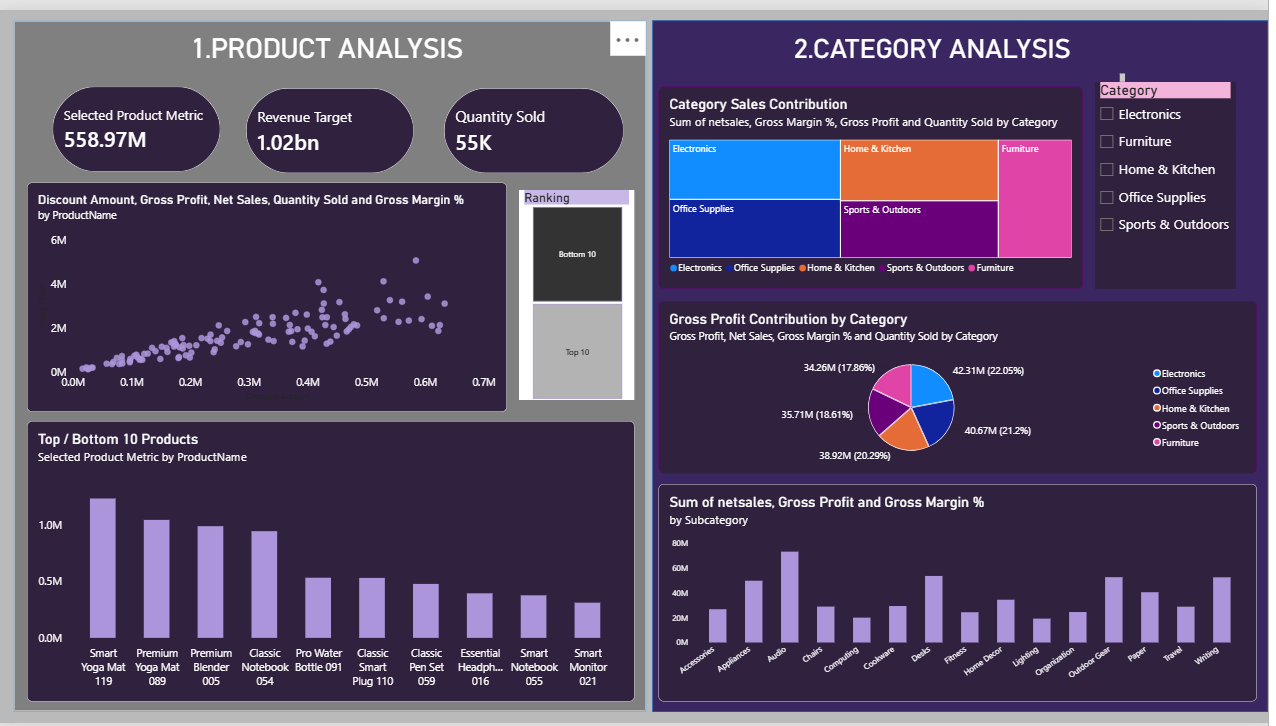

The dashboard page shown, as its layout file describes it:
{"tool":"powerbi","page":{"name":"Product & Category Analysis","canvas":[1920,1080],"ordinal":3},"visuals":[{"type":"shape","box":[20.4,15.9,958.5,1047.1],"z":0},{"type":"shape","box":[988,16,932,1047],"z":1000},{"type":"treemap","title":"Category Sales Contribution","fields":{"Group":["Products.Category"],"Values":["Sum(Order_items.netsales)"]},"box":[997.1,115.8,642.8,306.6],"z":4000},{"type":"slicer","fields":{"Values":["Products.Category"]},"box":[1658.1,109,213.5,313.4],"z":5000},{"type":"clusteredColumnChart","fields":{"Category":["Products.Category","Products.Subcategory"],"Y":["Sum(Order_items.netsales)"]},"box":[997.1,717.7,906.3,329.3],"z":6001},{"type":"clusteredColumnChart","title":"Top / Bottom 10 Products","fields":{"Category":["Products.ProductName"],"Y":["Order_items.Selected Product Metric"]},"box":[40.9,622.3,919.9,424.7],"z":6002},{"type":"slicer","fields":{"Values":["Ranking Selector.Ranking"]},"box":[785.9,272.6,174.9,318],"z":6003},{"type":"scatterChart","fields":{"Category":["Products.ProductName"],"X":["Order_items.Discount Amount"],"Y":["Order_items.Gross Profit"]},"box":[40.9,261.2,726.8,347.5],"z":6004},{"type":"cardVisual","fields":{"Data":["Order_items.Selected Product Metric"]},"box":[79.5,115.8,254.4,129.5],"z":6005},{"type":"cardVisual","fields":{"Data":["Order_items.Revenue Target"]},"box":[372.5,118.1,254.4,129.5],"z":6006},{"type":"cardVisual","fields":{"Data":["Order_items.Quantity Sold"]},"box":[672.3,118.1,272.6,129.5],"z":6007},{"type":"pieChart","title":"Gross Profit Contribution by Category","fields":{"Category":["Products.Category"],"Y":["Order_items.Gross Profit"]},"box":[997.1,440.6,906.3,261.2],"z":6008},{"type":"textbox","title":"1.PRODUCT ANALYSIS","box":[288.5,34.1,429.3,47.7],"z":6009},{"type":"textbox","title":"2.CATEGORY ANALYSIS","box":[1201.5,34.1,502,75],"z":6010}]}

Visuals, with their boxes in screenshot pixels (x1, y1, x2, y2), scaled from the page's 1920x1080 canvas onto the 1276x726 screenshot:
shape: 14,11,651,715
shape: 657,11,1275,715
"Category Sales Contribution" treemap: 663,78,1090,284
slicer - Products.Category: 1102,73,1244,284
clusteredColumnChart - Products.Category x Products.Subcategory: 663,482,1265,704
"Top / Bottom 10 Products" clusteredColumnChart: 27,418,639,704
slicer - Ranking Selector.Ranking: 522,183,639,397
scatterChart - Products.ProductName x Order_items.Discount Amount: 27,176,510,409
cardVisual - Order_items.Selected Product Metric: 53,78,222,165
cardVisual - Order_items.Revenue Target: 248,79,417,166
cardVisual - Order_items.Quantity Sold: 447,79,628,166
"Gross Profit Contribution by Category" pieChart: 663,296,1265,472
"1.PRODUCT ANALYSIS" textbox: 192,23,477,55
"2.CATEGORY ANALYSIS" textbox: 798,23,1132,73
